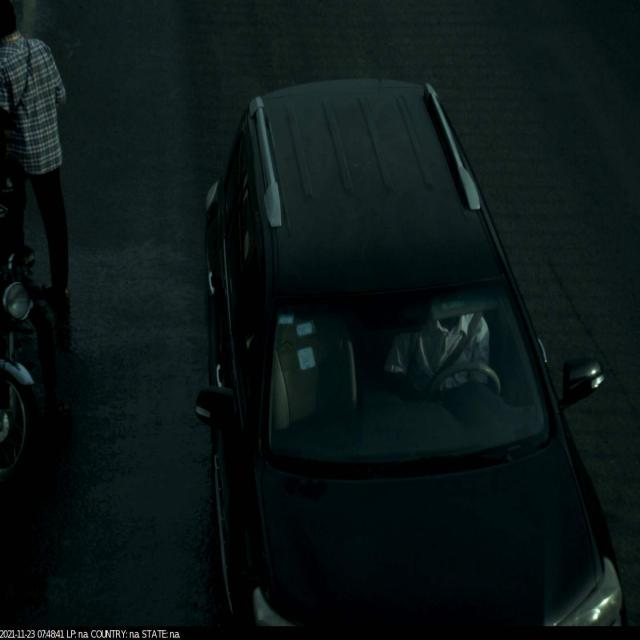windshield: (259, 262, 549, 472)
